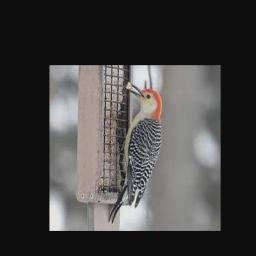Woodpecker: (108, 83, 162, 223)
